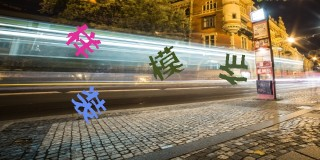作: (219, 51, 248, 86)
样: (65, 23, 101, 59)
模: (147, 45, 185, 80)
装: (71, 85, 107, 124)
